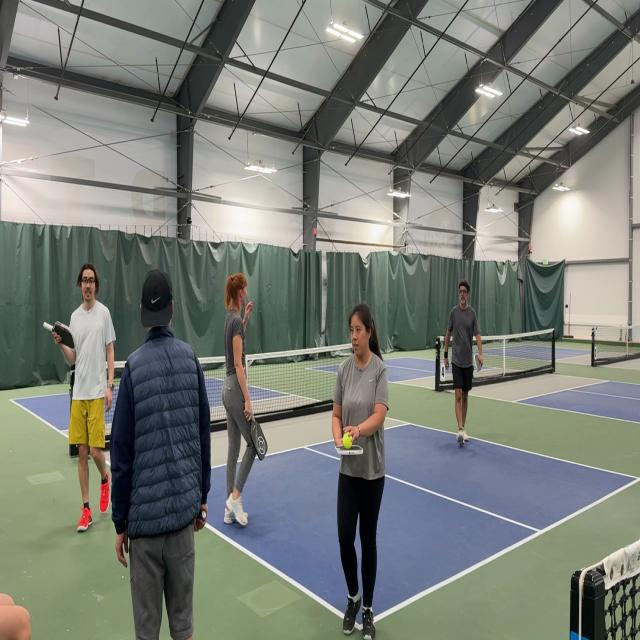ball: (342, 430, 354, 451)
